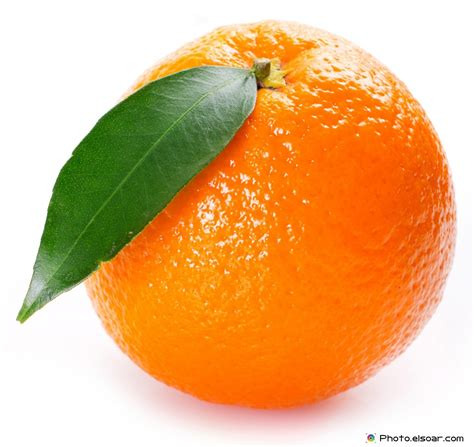orange: (78, 20, 460, 415)
